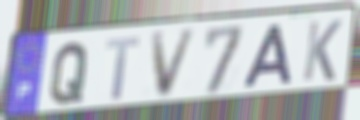7: (202, 23, 247, 97)
A: (240, 22, 294, 91)
K: (300, 17, 345, 83)
Q: (47, 40, 92, 107)
T: (104, 35, 143, 103)
V: (149, 26, 200, 102)
